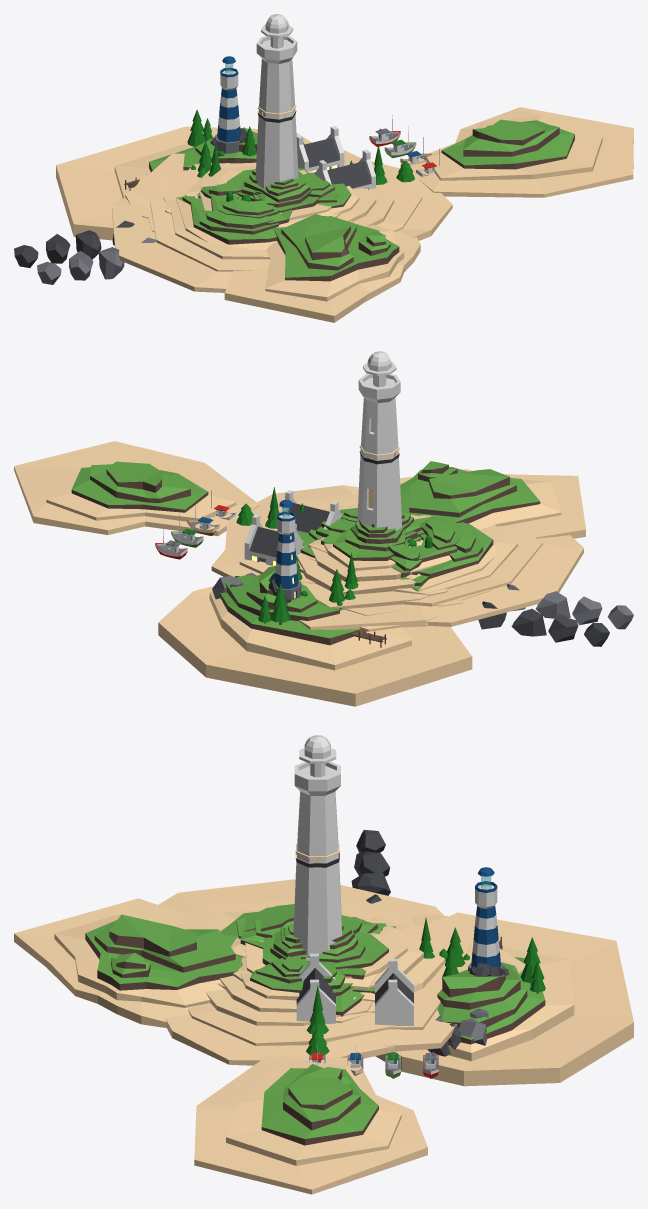
The model's file is is_3_sable.fbx.
3 views of the same model, one above another, from view 1: azimuth 30°, elevation 25°; view 2: azimuth 150°, elevation 25°; view 3: azimuth 270°, elevation 25° (orthographic). The views are drawn at different scales.
Visible parts, largest first — view 1: ILE, ILE2, island_5.001, ile2, Cylindre.001, Plan.002, Plan.001, island_5, phare bleu, Cube.002, Cube.001, Plan (+6 smaller); view 2: ile2, ILE, island_5.001, ILE2, Plan.001, Cylindre.001, Plan.002, island_5, phare bleu, Plan, Cube.002, Cube.001 (+5 smaller); view 3: ile2, ILE, ILE2, Plan.002, island_5.001, Cylindre.001, Plan.001, phare bleu, Cube.002, Cube.001, Plan, island_5 (+2 smaller).
Part boxes in pixels (bbox=[...]): ILE: bbox=[400, 107, 633, 197]; ILE2: bbox=[224, 214, 420, 322]; island_5.001: bbox=[112, 150, 361, 292]; ile2: bbox=[56, 126, 311, 240]; Cylindre.001: bbox=[255, 14, 298, 189]; Plan.002: bbox=[148, 160, 452, 240]; Plan.001: bbox=[125, 153, 352, 222]; island_5: bbox=[176, 168, 314, 249]; phare bleu: bbox=[214, 56, 240, 153]; Cube.002: bbox=[296, 126, 344, 171]; Cube.001: bbox=[314, 149, 375, 189]; Plan: bbox=[142, 172, 322, 218]; ile2: bbox=[158, 565, 472, 706]; ILE: bbox=[14, 441, 259, 536]; island_5.001: bbox=[211, 515, 583, 626]; ILE2: bbox=[400, 461, 585, 538]; Plan.001: bbox=[297, 509, 441, 629]; Cylindre.001: bbox=[357, 351, 401, 530]; Plan.002: bbox=[225, 485, 490, 600]; island_5: bbox=[300, 520, 496, 591]; phare bleu: bbox=[274, 500, 301, 600]; Plan: bbox=[297, 518, 463, 606]; Cube.002: bbox=[244, 514, 302, 565]; Cube.001: bbox=[280, 490, 342, 533]; ile2: bbox=[375, 912, 633, 1086]; ILE: bbox=[194, 1055, 427, 1194]; ILE2: bbox=[14, 898, 242, 1027]; Plan.002: bbox=[165, 956, 408, 1065]; island_5.001: bbox=[158, 879, 456, 1051]; Cylindre.001: bbox=[293, 735, 341, 961]; Plan.001: bbox=[217, 914, 525, 1000]; phare bleu: bbox=[468, 867, 504, 971]; Cube.002: bbox=[375, 958, 413, 1025]; Cube.001: bbox=[296, 953, 335, 1023]; Plan: bbox=[307, 910, 398, 1022]; island_5: bbox=[219, 904, 396, 1004].
Bounding box in the file's own units: 4468 × 1628 × 3291.
